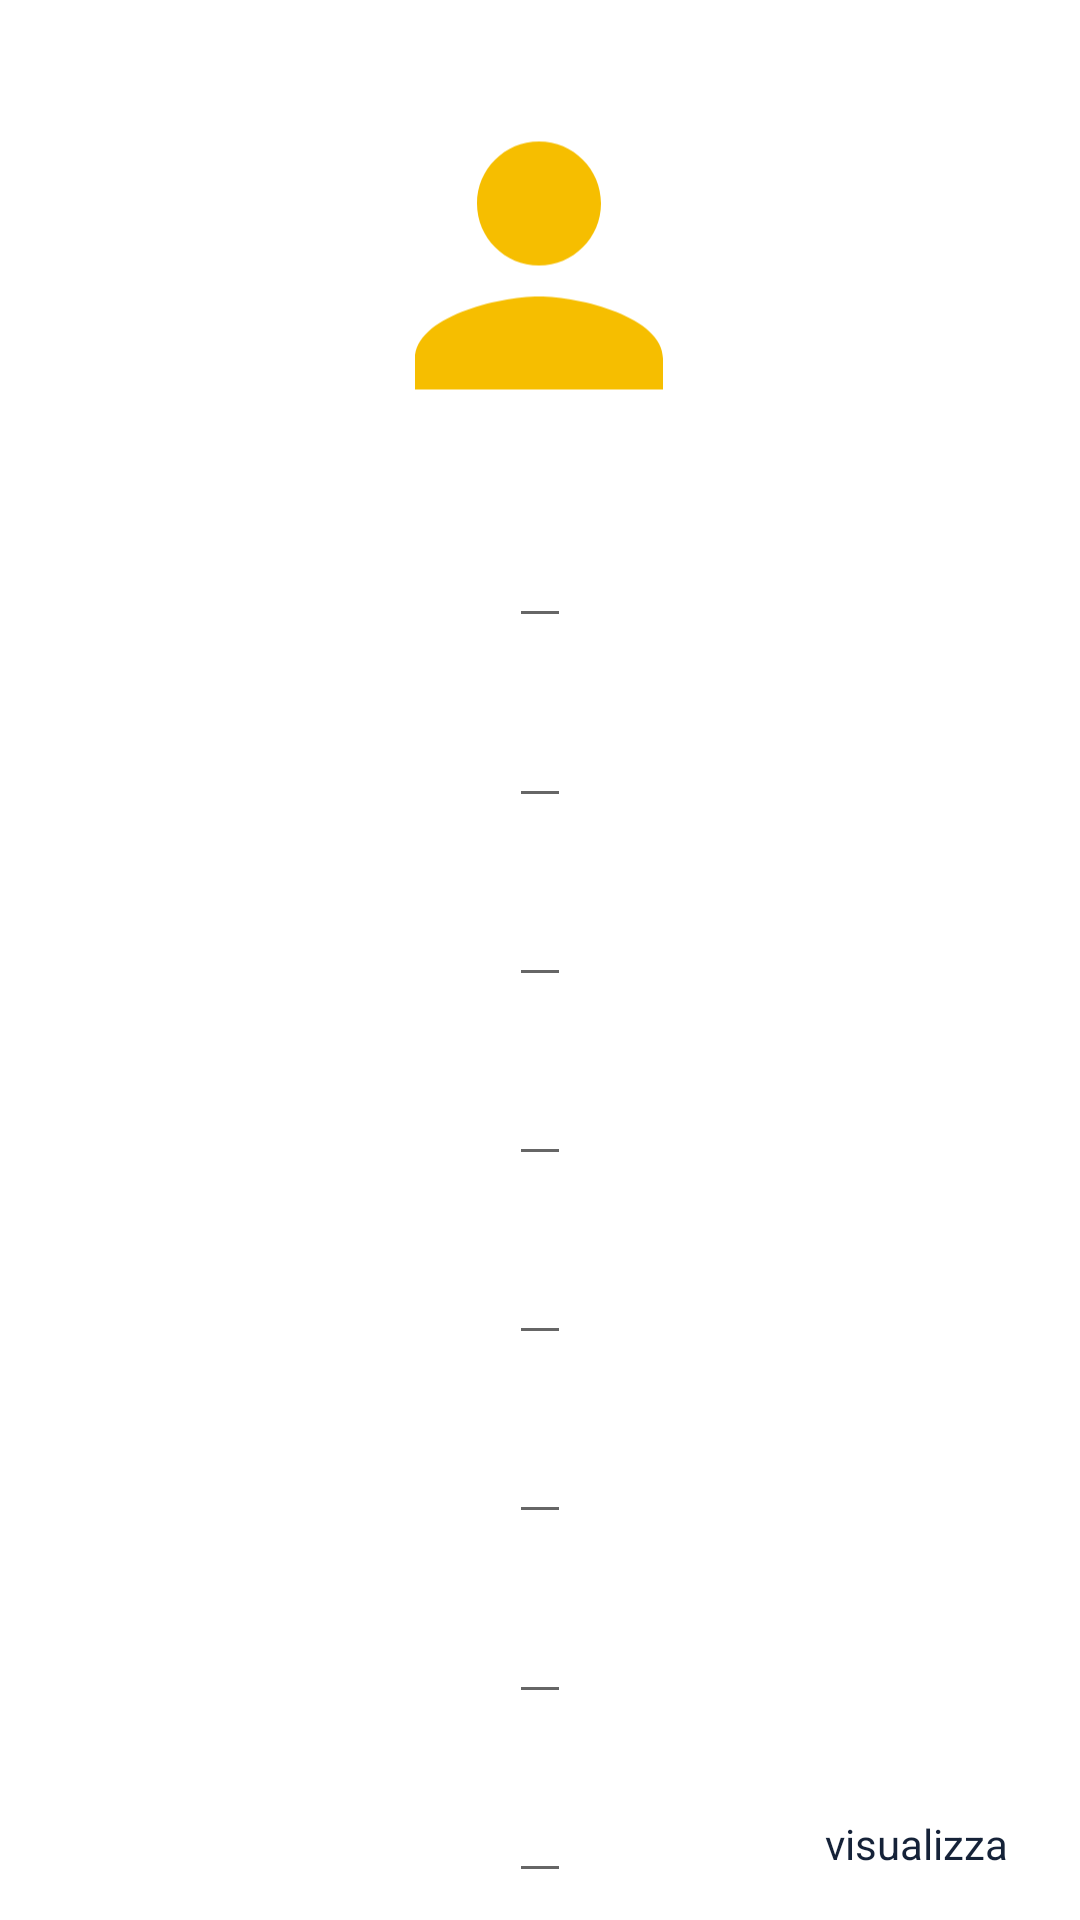

Named icons in this screenshot (1080px×1920px) and their centers, point (x, y):
person: point (539, 265)
